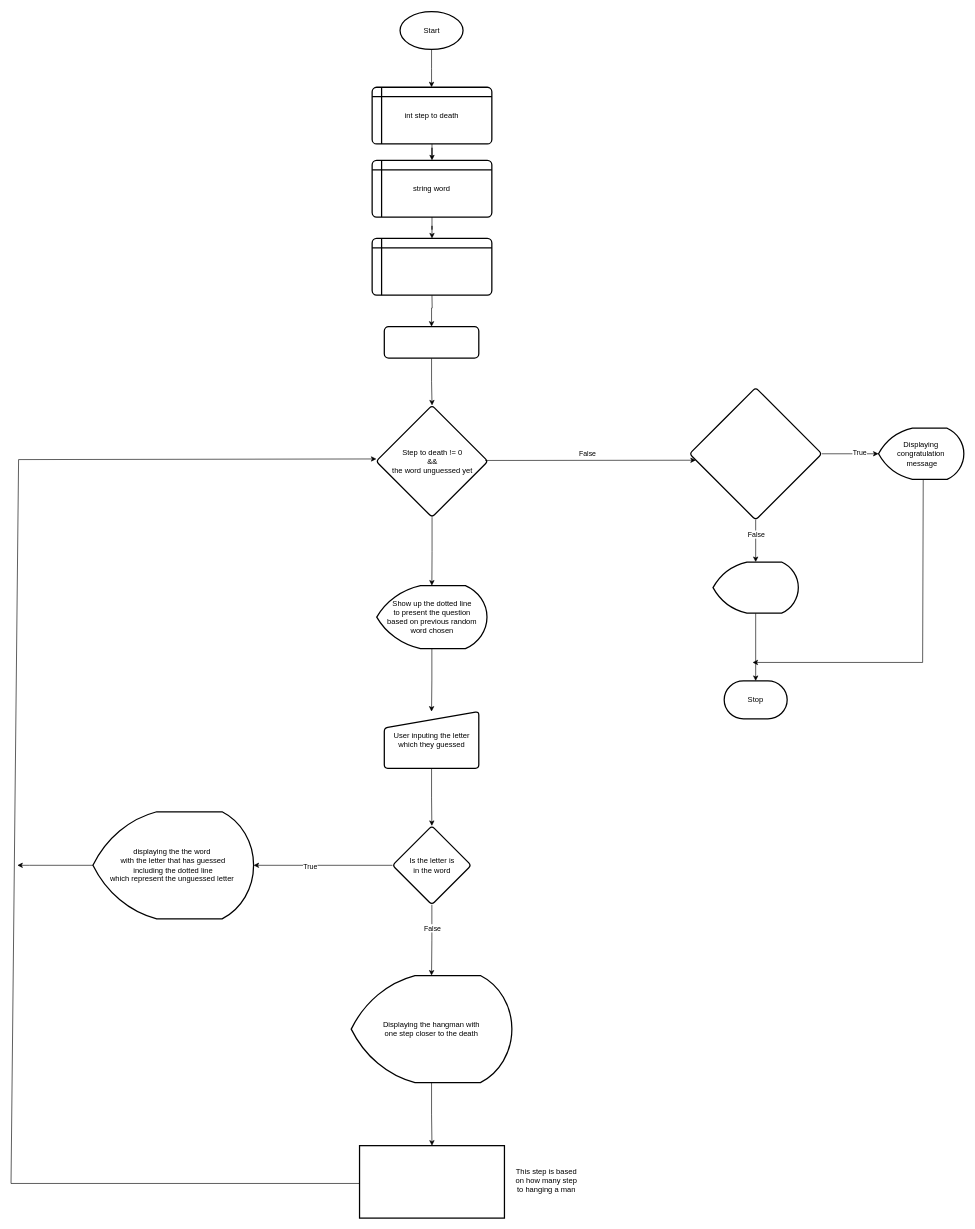
The diagram is 975 pixels wide and 1229 high, and some of its shapes have lost their labels. The shapes that lost their labels are listed below. From the top down, each one's centre as x and y in pixels, then its label:
At point (431, 266): "string letter".
At point (431, 342): "Choose a word randomly".
At point (755, 453): "Is the word guessed ?".
At point (755, 587): "Displaying game over message".
At point (432, 1181): "Step to death - 1".
